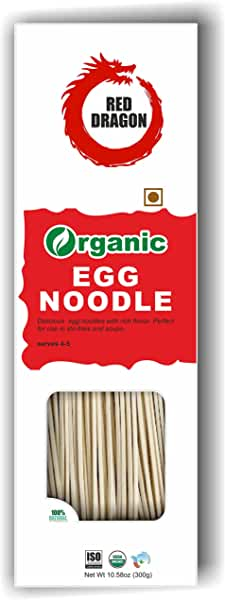non_veg: (144, 186, 172, 222)
